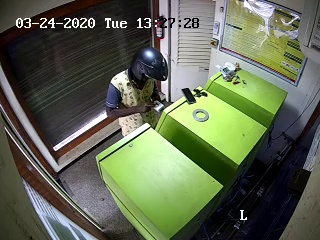helmet: (129, 43, 173, 93)
